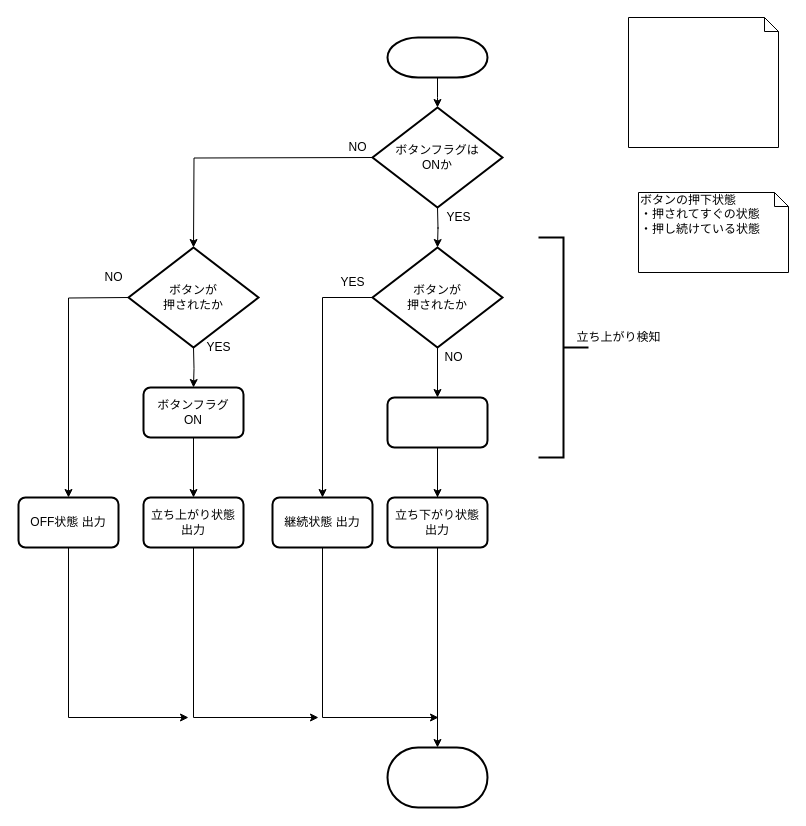
This 806x826 diagram has some shape labels left out. The box of each missing label's shape, as (x1, y1, x2, y2) in pixels:
END: (386, 746, 488, 808)
ボタンエッジ検知: (386, 36, 488, 78)
ボタンエッジ検知 入力 ボタン 出力 立ち上がり・下がりめ・OFF: (628, 16, 778, 148)
ボタンフラグ OFF: (386, 396, 488, 448)
